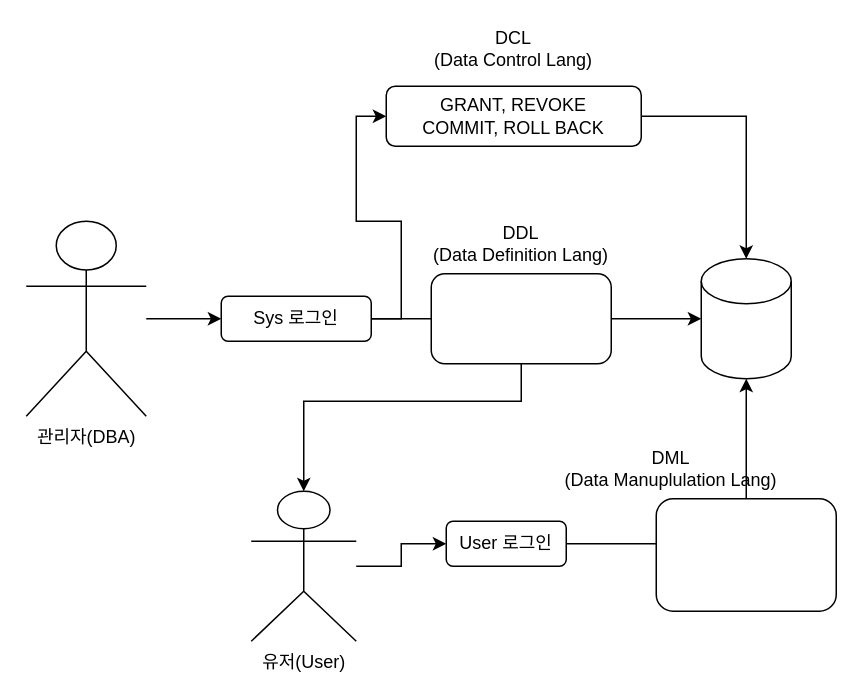
Image size: 863x698. Some labels were removed from this diagram. Each missing label, with the centre of its shape:
"CREATE : INSERT READ : SELECT UPDATE : UPDATE DELETE : DELTE" goes at [745,554].
"DB,User Create DB,User DROP DB Alter" goes at [520,318].
"Storage" goes at [745,318].
